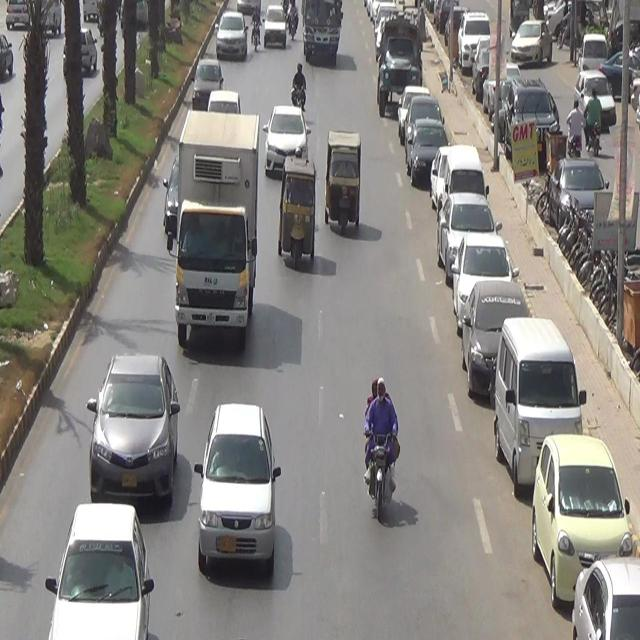car: (192, 397, 288, 598), (45, 488, 155, 640), (537, 416, 623, 604), (86, 345, 181, 506), (494, 320, 578, 498), (463, 285, 523, 406), (574, 555, 639, 640), (456, 234, 508, 318), (432, 198, 498, 263), (406, 117, 452, 191), (267, 94, 306, 175), (440, 149, 489, 197), (157, 154, 179, 248), (182, 54, 222, 102), (399, 84, 431, 134), (215, 13, 247, 61), (266, 6, 290, 48), (408, 100, 441, 124)
motorbike: (362, 373, 416, 522), (290, 65, 318, 115), (282, 0, 299, 46), (250, 7, 264, 57)
truck: (178, 103, 260, 350), (378, 13, 420, 119)
